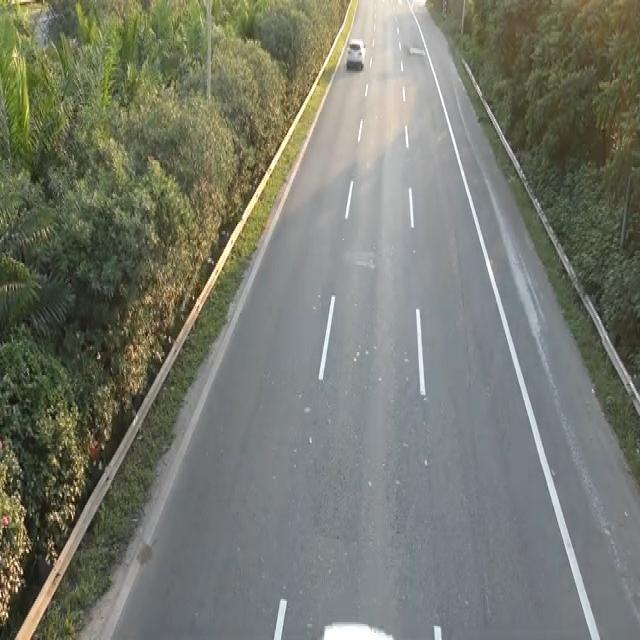car: (344, 36, 366, 71)
